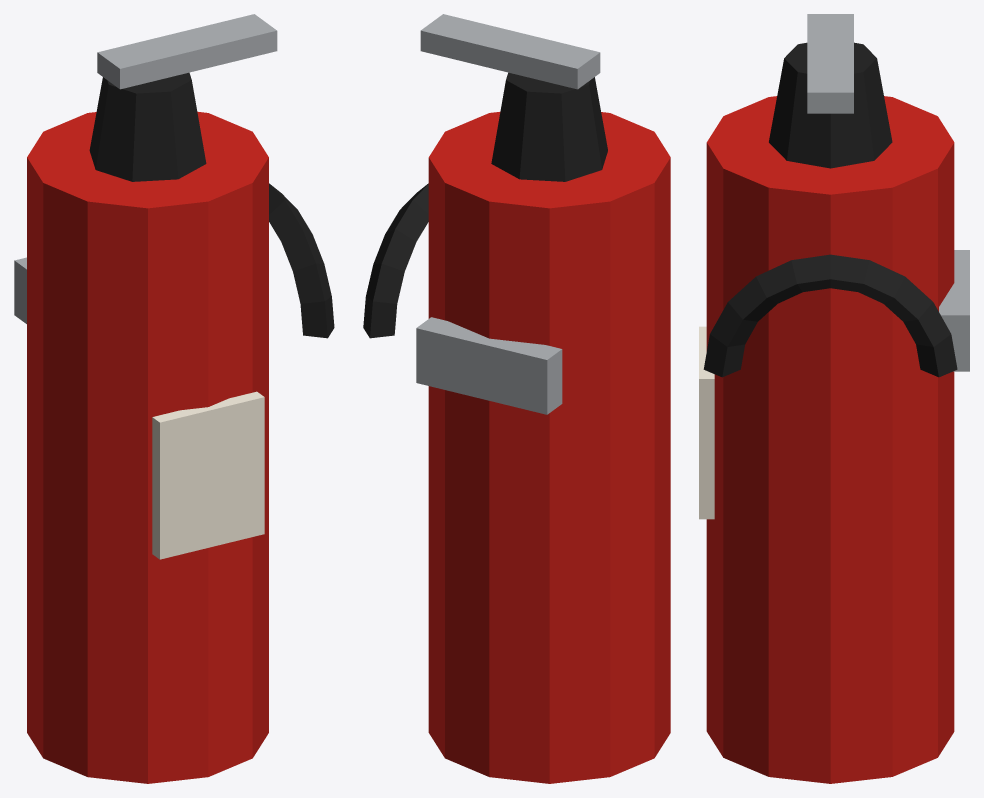
The model's file is fire_extinguisher.glb.
3 renders of one model, left to right at view 1: azimuth 30°, elevation 25°; view 2: azimuth 150°, elevation 25°; view 3: azimuth 270°, elevation 25°, orthographic. The views are drawn at different scales.
Visible parts, largest first — view 1: body_ext_red, label_ext_label, head_ext_black, handle_ext_steel, hose_ext_black, bracket_ext_steel; view 2: body_ext_red, head_ext_black, bracket_ext_steel, handle_ext_steel, hose_ext_black; view 3: body_ext_red, hose_ext_black, head_ext_black, handle_ext_steel, label_ext_label, bracket_ext_steel.
Part boxes in pixels (x1=…): body_ext_red: x1=27, y1=111, x2=268, y2=783; label_ext_label: x1=152, y1=391, x2=264, y2=559; head_ext_black: x1=89, y1=72, x2=206, y2=181; handle_ext_steel: x1=97, y1=14, x2=277, y2=89; hose_ext_black: x1=269, y1=183, x2=334, y2=338; bracket_ext_steel: x1=14, y1=257, x2=26, y2=323; body_ext_red: x1=428, y1=112, x2=670, y2=783; head_ext_black: x1=491, y1=72, x2=607, y2=181; bracket_ext_steel: x1=416, y1=317, x2=562, y2=414; handle_ext_steel: x1=420, y1=14, x2=600, y2=89; hose_ext_black: x1=363, y1=183, x2=428, y2=338; body_ext_red: x1=706, y1=96, x2=954, y2=783; hose_ext_black: x1=703, y1=254, x2=957, y2=377; head_ext_black: x1=769, y1=42, x2=892, y2=168; handle_ext_steel: x1=807, y1=14, x2=853, y2=113; label_ext_label: x1=699, y1=326, x2=714, y2=519; bracket_ext_steel: x1=939, y1=250, x2=969, y2=371.
Bounding box in the file's own units: 0.182 × 0.4975 × 0.175.
